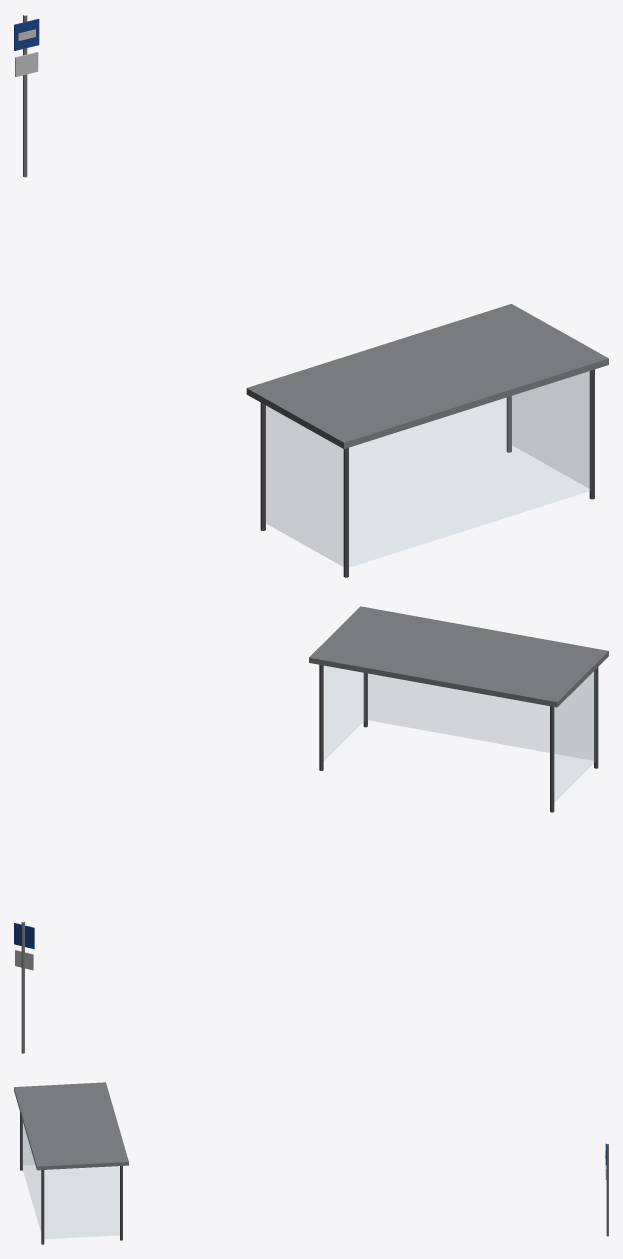
The model's file is zastavky.glb.
3 renders of one model, top to bottom at view 1: azimuth 30°, elevation 25°; view 2: azimuth 150°, elevation 25°; view 3: azimuth 270°, elevation 25°, orthographic. The views are drawn at different scales.
Bounding box in the file's own units: 5.87 × 3.02 × 17.52.
